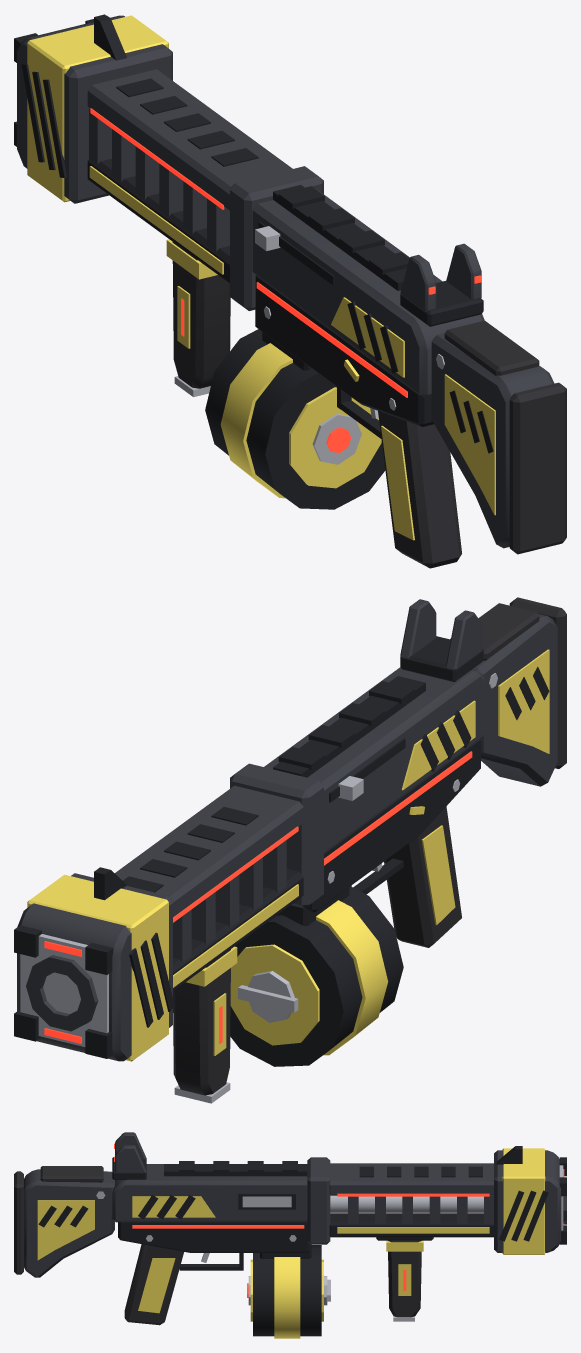
File: BreachHammer.glb
3 views of the same model, one above another, from view 1: azimuth 30°, elevation 25°; view 2: azimuth 150°, elevation 25°; view 3: azimuth 270°, elevation 25° (orthographic). The views are drawn at different scales.
Visible parts, largest first — view 1: Body, Drum, ShroudTop, ButtPad, Grip, Stock, Lower, HammerHead, HammerBand, Foregrip, Trunnion, DrumBackPlate (+25 smaller); view 2: Body, Drum, ShroudTop, HammerBand, Lower, Stock, HammerHead, Foregrip, DrumFacePlate, Trunnion, Grip, StrikeFace (+39 smaller); view 3: Body, Lower, Stock, ShroudTop, Drum, HammerBand, ShroudBottom, HammerHead, StockPlate1, DrumBand, Grip, Trunnion (+29 smaller).
Boxes of the visible parts, <box> form: Body: <box>252,189,484,397</box>; Drum: <box>205,329,385,509</box>; ShroudTop: <box>87,69,292,210</box>; ButtPad: <box>509,382,566,554</box>; Grip: <box>378,411,461,568</box>; Stock: <box>431,333,554,548</box>; Lower: <box>255,275,433,426</box>; HammerHead: <box>17,15,172,203</box>; HammerBand: <box>27,15,168,202</box>; Foregrip: <box>172,242,230,388</box>; Trunnion: <box>230,166,323,310</box>; DrumBackPlate: <box>289,387,381,488</box>; Body: <box>264,667,488,852</box>; Drum: <box>230,886,403,1066</box>; ShroudTop: <box>115,785,303,916</box>; HammerBand: <box>27,874,168,1061</box>; Lower: <box>306,738,480,912</box>; Stock: <box>472,613,557,786</box>; HammerHead: <box>17,873,172,1061</box>; Foregrip: <box>173,949,230,1095</box>; DrumFacePlate: <box>230,944,319,1045</box>; Trunnion: <box>230,763,323,908</box>; Grip: <box>384,806,461,947</box>; StrikeFace: <box>20,934,108,1046</box>; Body: <box>112,1164,307,1222</box>; Lower: <box>118,1221,310,1252</box>; Stock: <box>24,1169,114,1277</box>; ShroudTop: <box>329,1163,493,1195</box>; Drum: <box>253,1245,321,1336</box>; HammerBand: <box>502,1148,545,1254</box>; ShroudBottom: <box>329,1213,493,1237</box>; HammerHead: <box>494,1150,561,1252</box>; StockPlate1: <box>37,1200,94,1260</box>; DrumBand: <box>274,1257,300,1338</box>; Grip: <box>124,1244,183,1325</box>; Trunnion: <box>307,1157,330,1244</box>.
Size of the model in its own units: 0.67 by 1.49 by 3.86.
